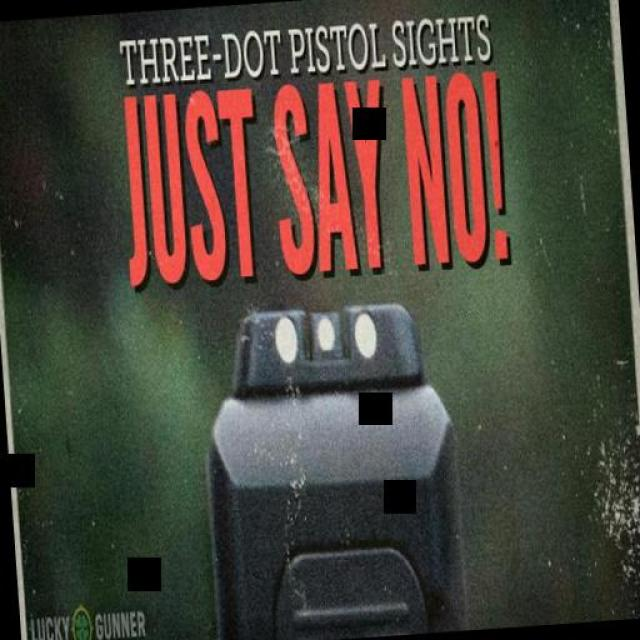gun: (193, 291, 468, 640)
